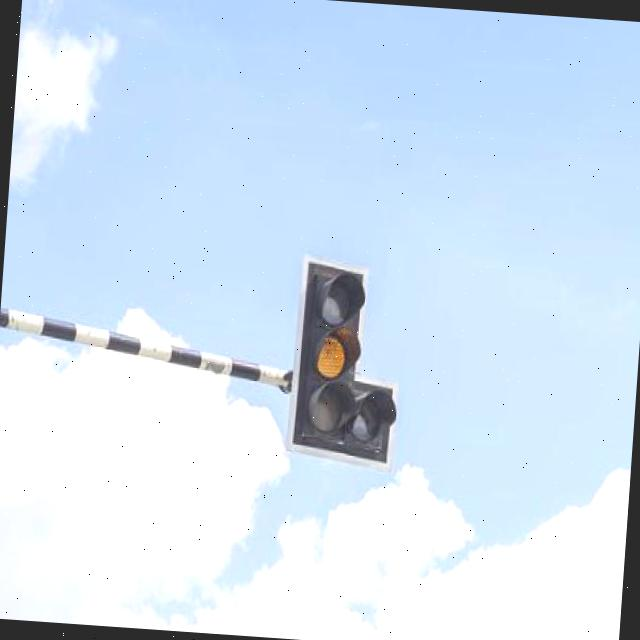yellow_light: (303, 271, 364, 442)
